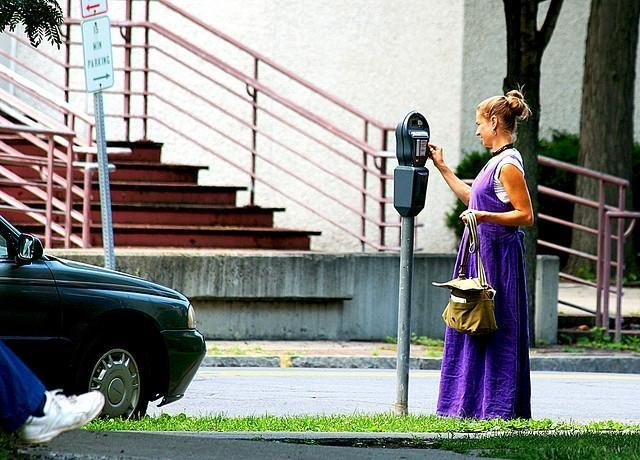car: (2, 218, 206, 417)
